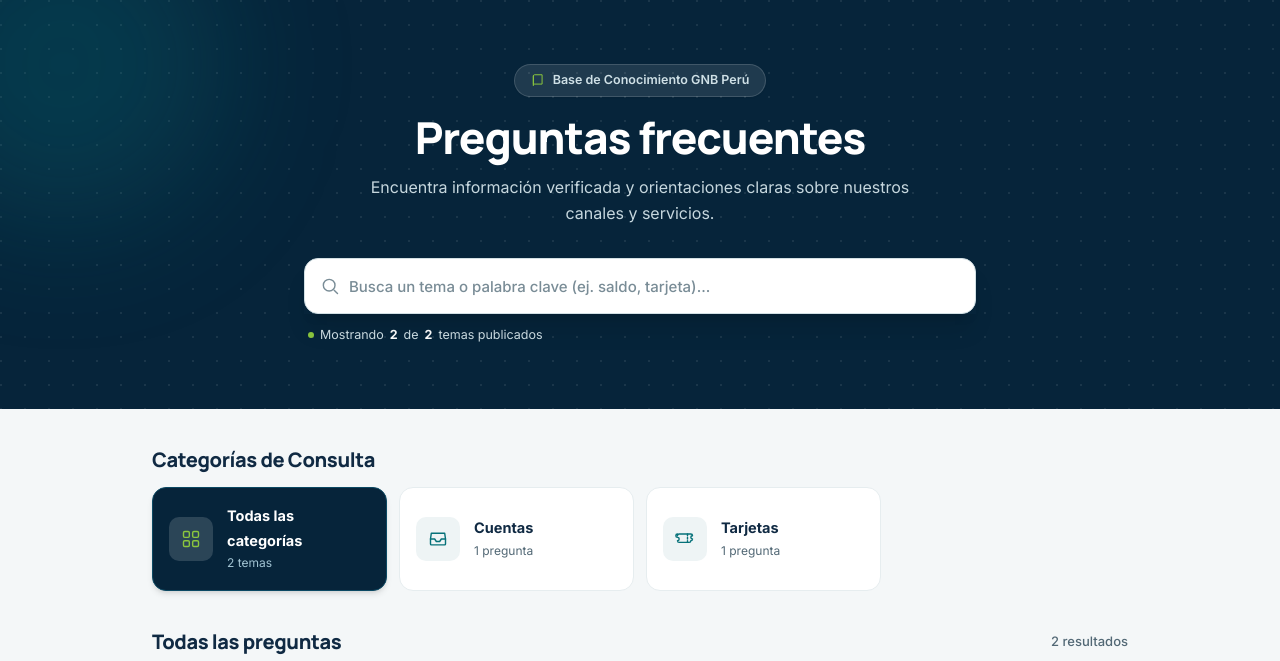
página pública de preguntas frecuentes › envía búsqueda y categoría al backend y muestra sus resultados
Type "seguridad" into the search field named "buscar" at (640, 286), box [304,258,976,314]
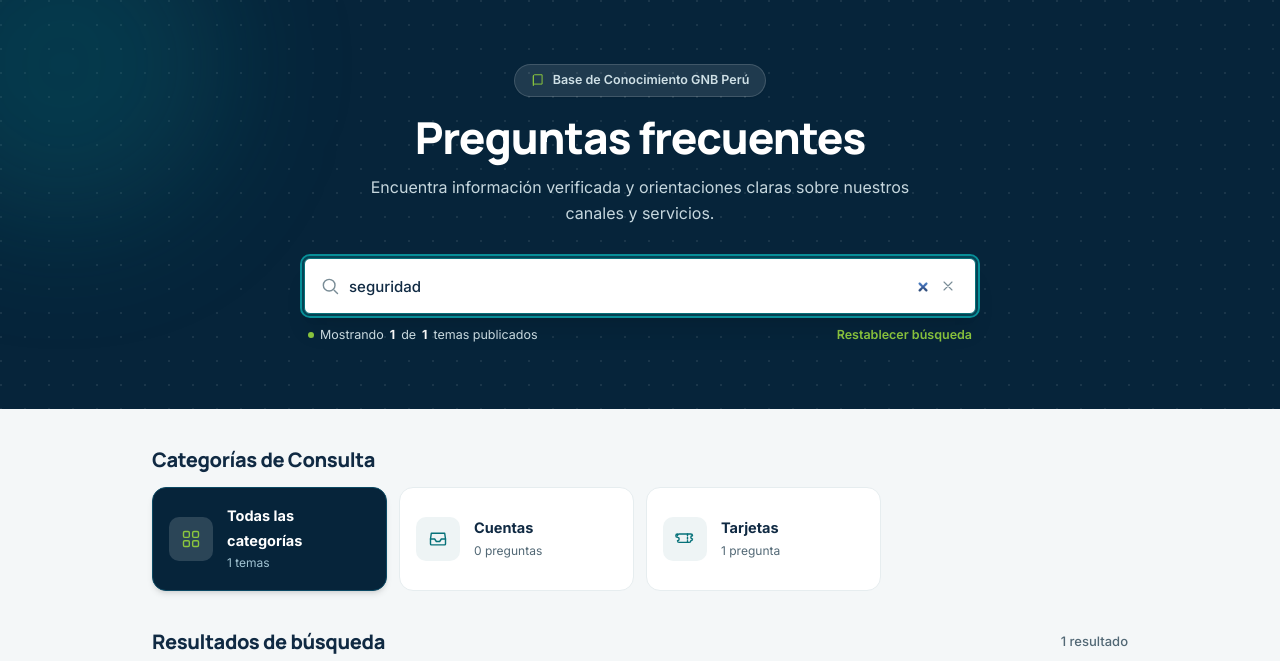
Click the button "Cuentas 0 preguntas" at (516, 539), box [399,487,634,591]
(page scrolled)
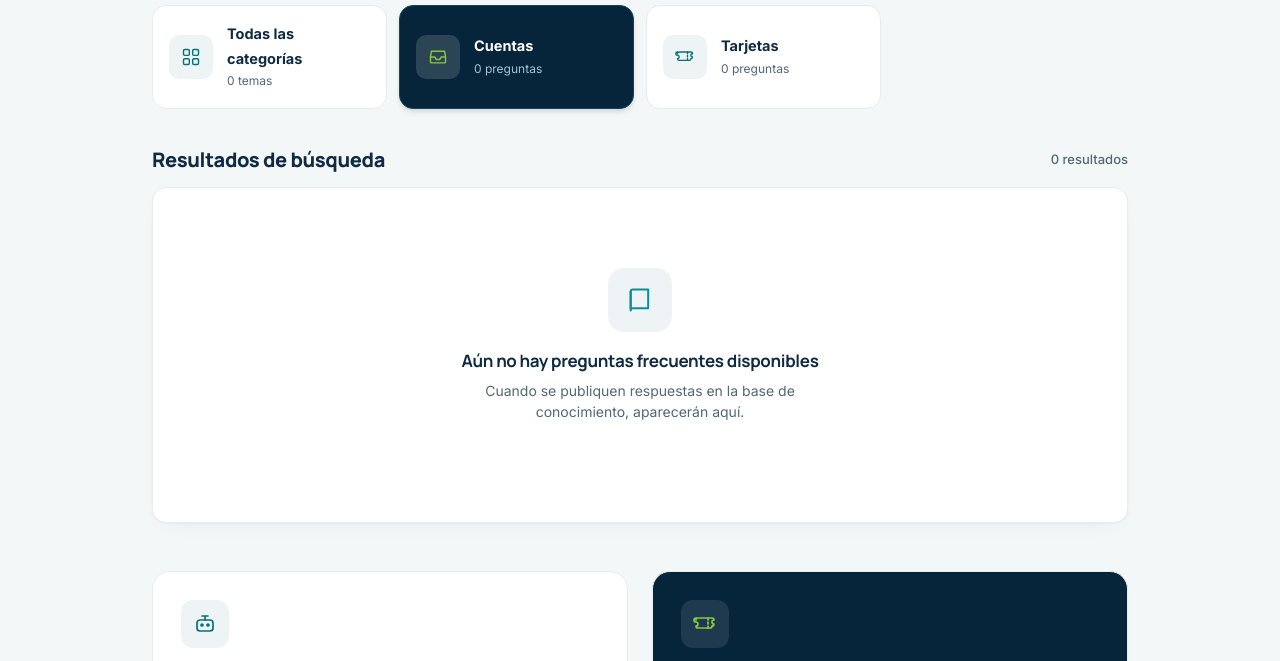
expect the heading "Aún no hay preguntas frecuentes disponibles" is shown: met, box [462,349,819,372]
